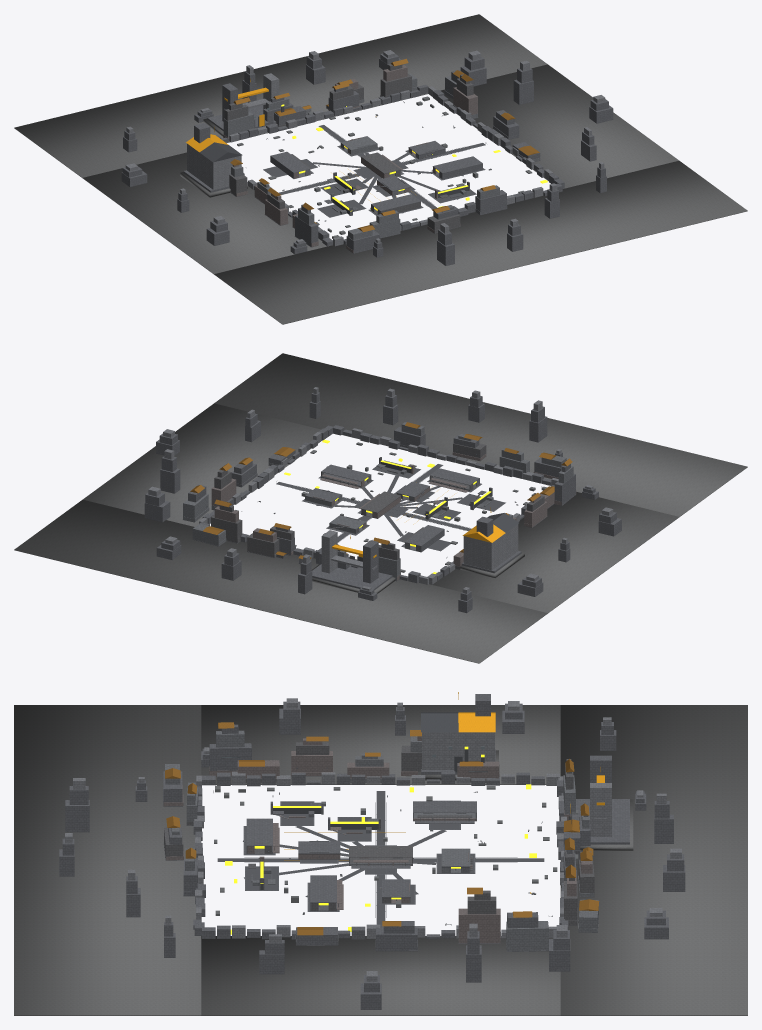
The picture shows the model from 3 angles, top to bottom: view 1: azimuth 30°, elevation 25°; view 2: azimuth 150°, elevation 25°; view 3: azimuth 270°, elevation 25°; orthographic projection. The views are drawn at different scales.
Visible parts, largest first — view 1: HB_z07_LOD1_terrain, HB_z07_LOD1_wall_alt, HB_z07_LOD1_wall_cool, HB_z07_LOD1_wall_weathered, HB_z07_LOD1_road, HB_z07_LOD1_wall, HB_z07_LOD1_wall_warm, HB_z07_LOD1_roof, HB_z07_LOD1_LANDMARK_1_wall, HB_z07_LOD1_LANDMARK_0_wall_alt, HB_z07_LOD1_obstacle, HB_z07_LOD1_LANDMARK_0_wall (+1 smaller); view 2: HB_z07_LOD1_terrain, HB_z07_LOD1_wall_alt, HB_z07_LOD1_wall_cool, HB_z07_LOD1_wall_weathered, HB_z07_LOD1_road, HB_z07_LOD1_wall_warm, HB_z07_LOD1_wall, HB_z07_LOD1_LANDMARK_0_wall_alt, HB_z07_LOD1_LANDMARK_1_wall, HB_z07_LOD1_roof, HB_z07_LOD1_LANDMARK_0_wall, HB_z07_LOD1_LANDMARK_1_wall_alt; view 3: HB_z07_LOD1_terrain, HB_z07_LOD1_wall_alt, HB_z07_LOD1_wall_warm, HB_z07_LOD1_wall_cool, HB_z07_LOD1_road, HB_z07_LOD1_wall_weathered, HB_z07_LOD1_wall, HB_z07_LOD1_roof, HB_z07_LOD1_LANDMARK_1_wall, HB_z07_LOD1_LANDMARK_0_wall_alt, HB_z07_LOD1_LANDMARK_0_wall, HB_z07_LOD1_obstacle (+4 smaller).
Boxes of the visible parts, <box> form: HB_z07_LOD1_terrain: <box>14,14,747,324</box>; HB_z07_LOD1_wall_alt: <box>121,53,613,265</box>; HB_z07_LOD1_wall_cool: <box>223,73,540,240</box>; HB_z07_LOD1_wall_weathered: <box>224,64,473,233</box>; HB_z07_LOD1_road: <box>264,125,485,217</box>; HB_z07_LOD1_wall: <box>125,50,605,246</box>; HB_z07_LOD1_wall_warm: <box>223,65,477,253</box>; HB_z07_LOD1_roof: <box>230,58,539,232</box>; HB_z07_LOD1_LANDMARK_1_wall: <box>187,143,241,189</box>; HB_z07_LOD1_LANDMARK_0_wall_alt: <box>207,83,276,130</box>; HB_z07_LOD1_obstacle: <box>237,96,532,238</box>; HB_z07_LOD1_LANDMARK_0_wall: <box>223,73,279,110</box>; HB_z07_LOD1_terrain: <box>14,353,747,663</box>; HB_z07_LOD1_wall_alt: <box>144,392,621,613</box>; HB_z07_LOD1_wall_cool: <box>183,422,573,580</box>; HB_z07_LOD1_wall_weathered: <box>211,443,544,569</box>; HB_z07_LOD1_road: <box>276,464,504,550</box>; HB_z07_LOD1_wall_warm: <box>211,452,576,580</box>; HB_z07_LOD1_wall: <box>148,387,613,593</box>; HB_z07_LOD1_LANDMARK_0_wall_alt: <box>312,540,392,589</box>; HB_z07_LOD1_LANDMARK_1_wall: <box>463,524,518,570</box>; HB_z07_LOD1_roof: <box>190,422,572,559</box>; HB_z07_LOD1_LANDMARK_0_wall: <box>321,530,377,573</box>; HB_z07_LOD1_LANDMARK_1_wall_alt: <box>461,516,521,573</box>; HB_z07_LOD1_terrain: <box>14,705,747,1015</box>; HB_z07_LOD1_wall_alt: <box>59,701,685,1009</box>; HB_z07_LOD1_wall_warm: <box>163,736,592,943</box>; HB_z07_LOD1_wall_cool: <box>165,730,598,951</box>; HB_z07_LOD1_road: <box>217,791,544,927</box>; HB_z07_LOD1_wall_weathered: <box>164,742,594,925</box>; HB_z07_LOD1_wall: <box>65,698,681,981</box>; HB_z07_LOD1_roof: <box>165,722,599,935</box>; HB_z07_LOD1_LANDMARK_1_wall: <box>422,732,494,769</box>; HB_z07_LOD1_LANDMARK_0_wall_alt: <box>570,755,629,844</box>; HB_z07_LOD1_LANDMARK_0_wall: <box>590,783,611,836</box>; HB_z07_LOD1_obstacle: <box>214,785,578,915</box>.
Size of the model in its own units: 666 by 76.86 by 666.
Materials: 13 (11 with a texture image).
